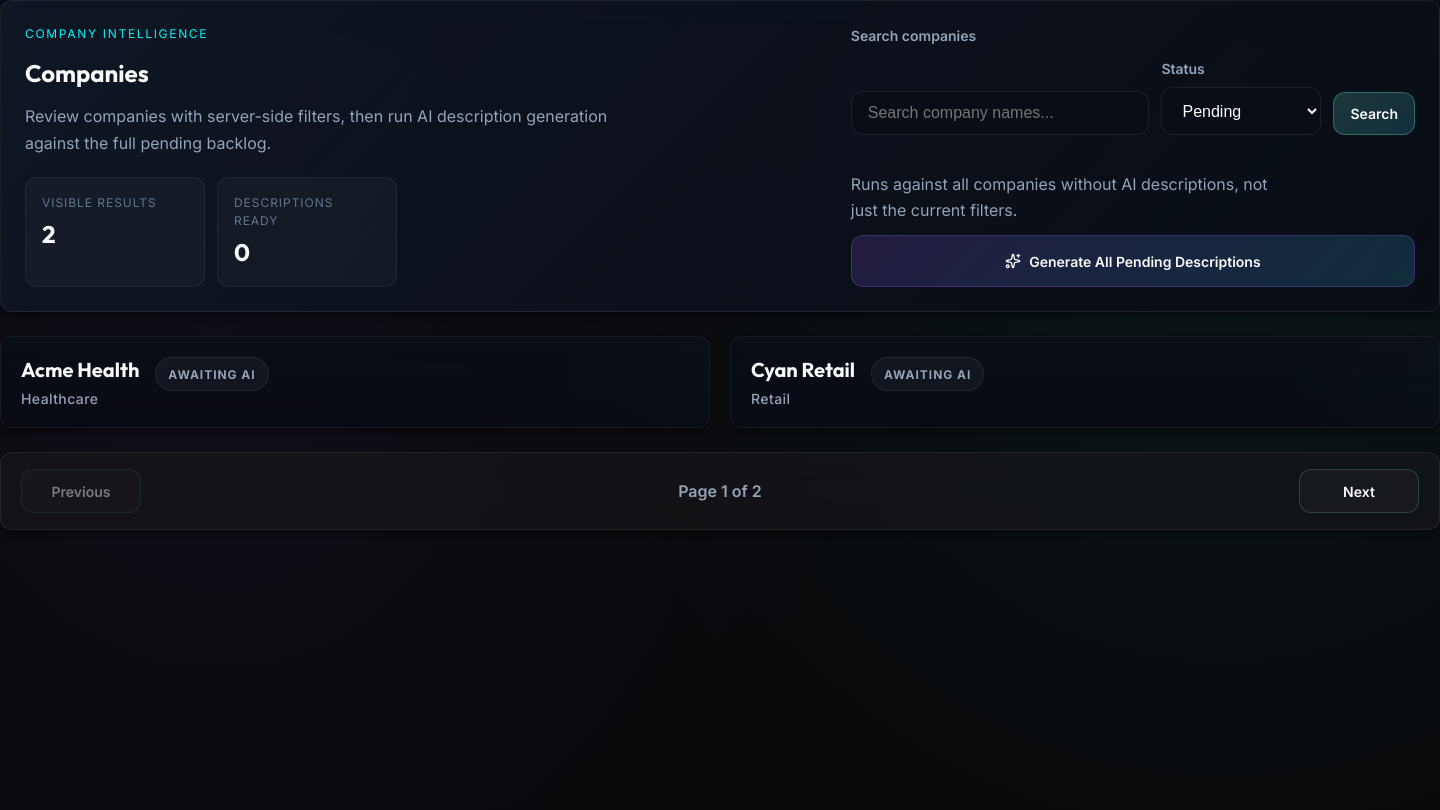
Test: CompaniesPage › opens the detail modal and shows the current AI description text
Click the button with aria-label "open details for acme health": (80, 370) left=0, top=336, right=710, bottom=428
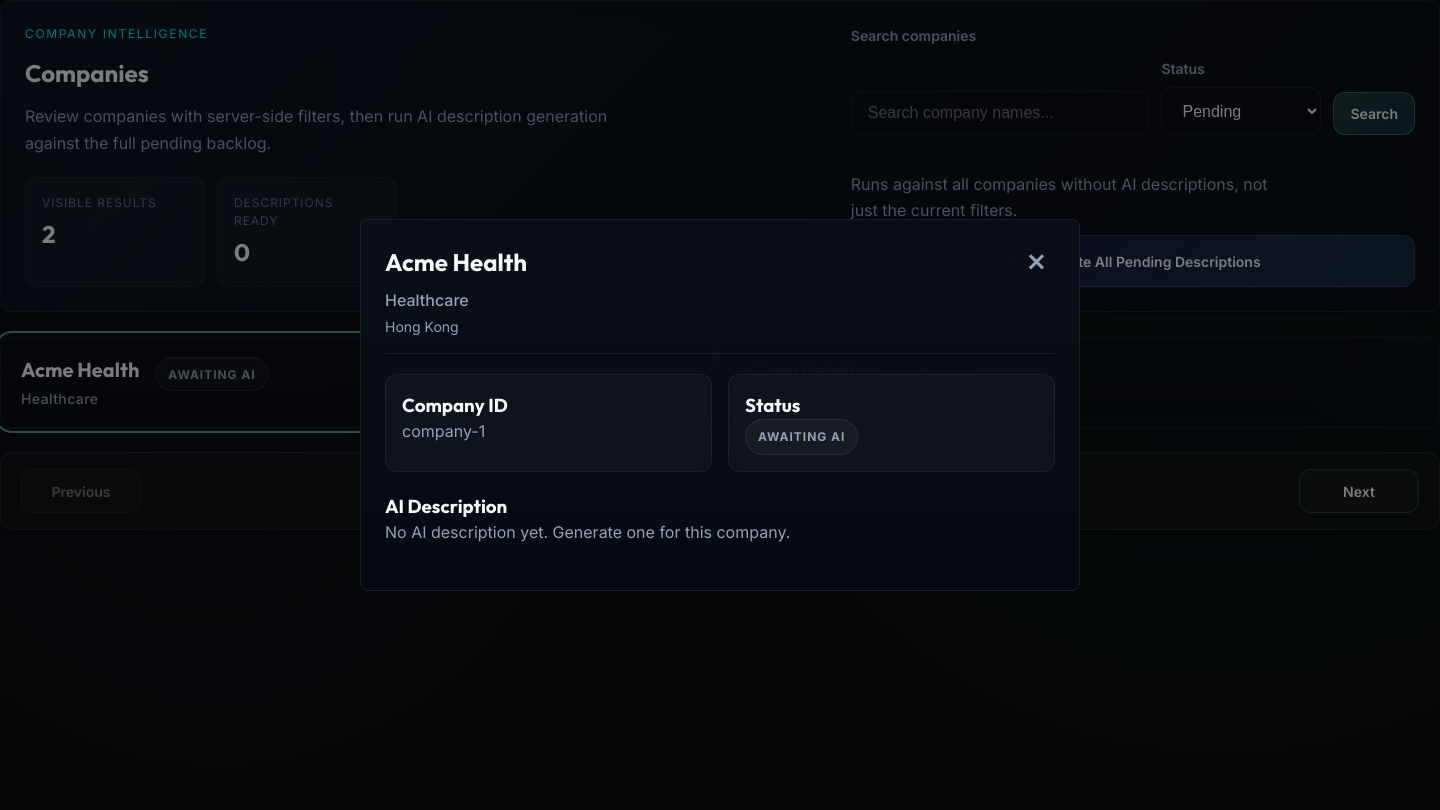
Expected: the heading "Acme Health" is shown, left=385, top=247, right=527, bottom=277
Expected: the text "No AI description yet. Generate one for this company." is shown, left=385, top=522, right=790, bottom=542
